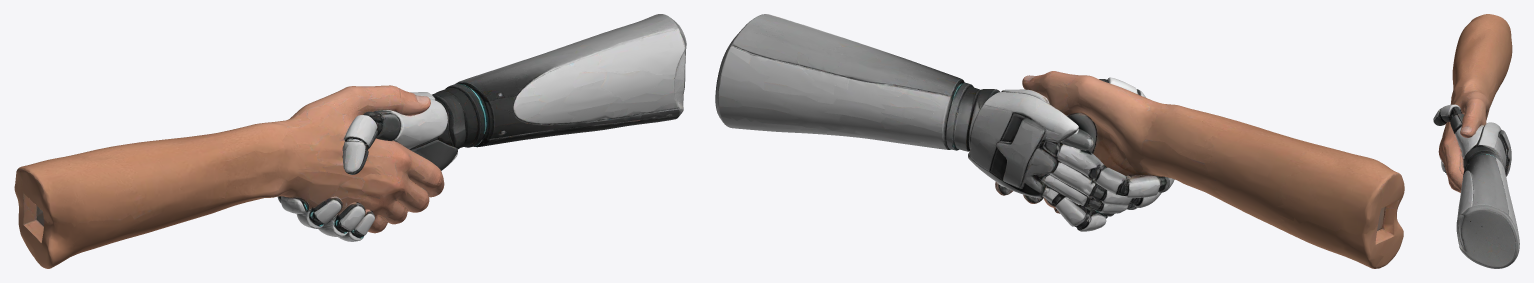
File: handshake.glb
3 renders of one model, left to right at view 1: azimuth 30°, elevation 25°; view 2: azimuth 150°, elevation 25°; view 3: azimuth 270°, elevation 25°, orthographic. The views are drawn at different scales.
Parts seen in each view (by area): view 1: mesh_node; view 2: mesh_node; view 3: mesh_node.
Boxes of the visible parts, bbox=[...] form: mesh_node: bbox=[14, 14, 686, 268]; mesh_node: bbox=[715, 14, 1404, 268]; mesh_node: bbox=[1433, 14, 1519, 268].
Size of the model in its own units: 1.9 by 0.4102 by 0.3566.
1 material, 1 textured.
